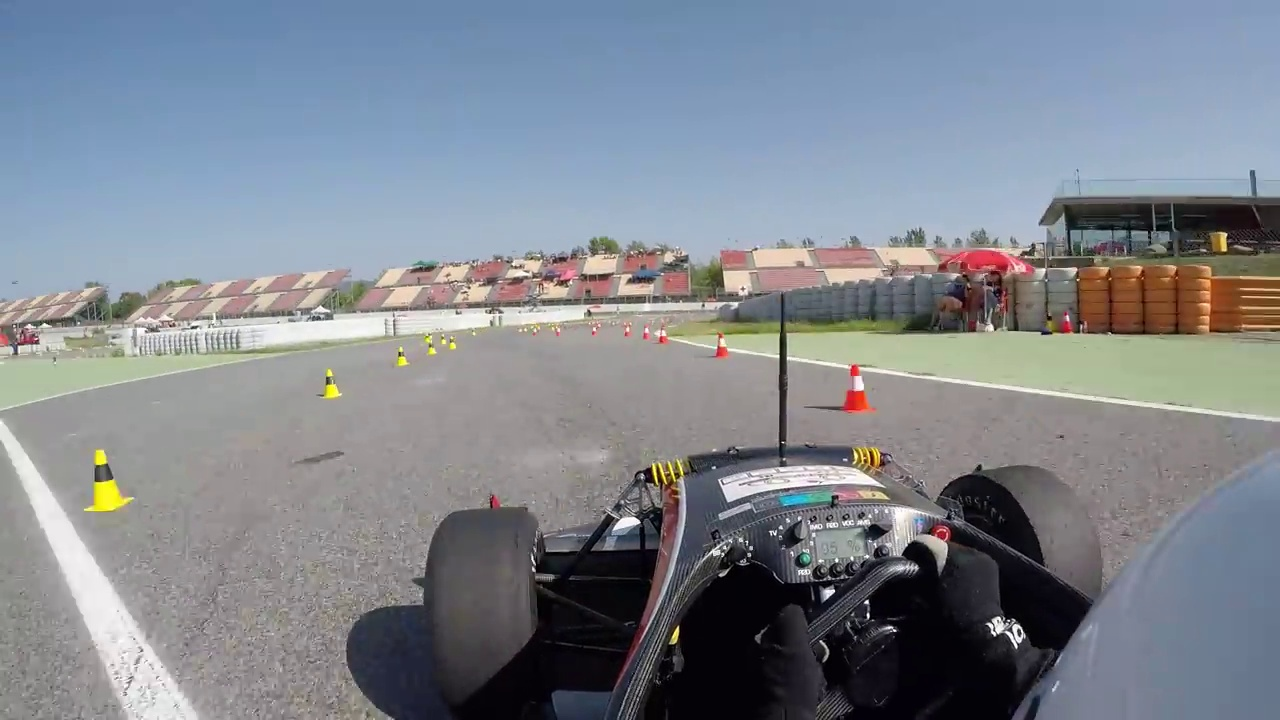Cone: (85, 448, 127, 511), (839, 361, 873, 414), (321, 366, 340, 399), (715, 331, 729, 357)
